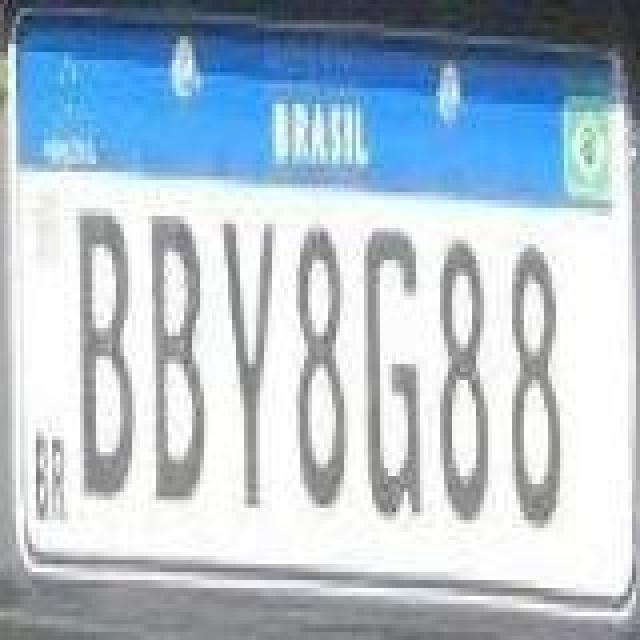8: (436, 230, 492, 522), (508, 238, 564, 530), (292, 222, 348, 506)
B: (78, 206, 138, 498), (146, 206, 206, 498)
G: (362, 218, 422, 526)
Y: (220, 214, 276, 514)
